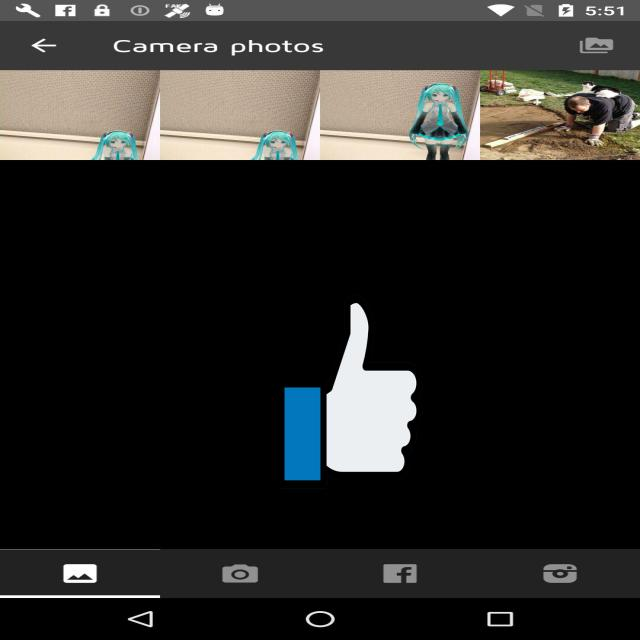privacy zuckering: (278, 290, 422, 493)
